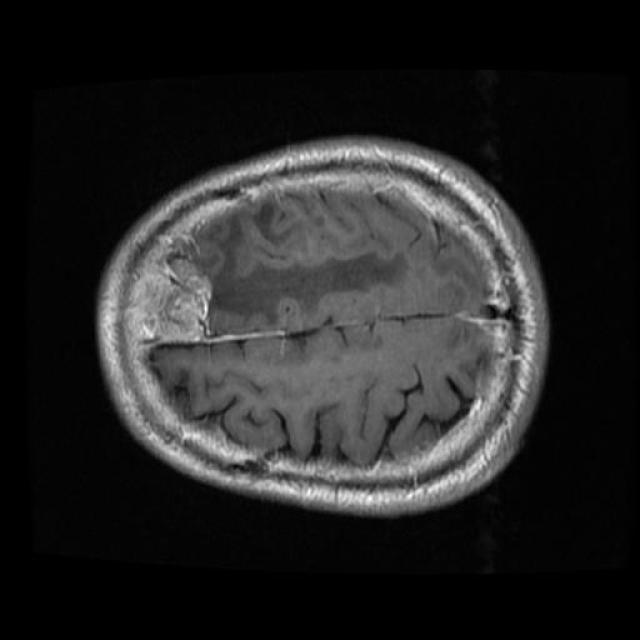Meningioma: (132, 236, 212, 344)
